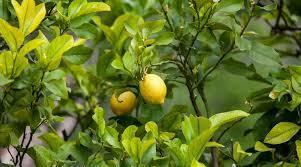lemon: (139, 74, 167, 104), (110, 90, 136, 115)
